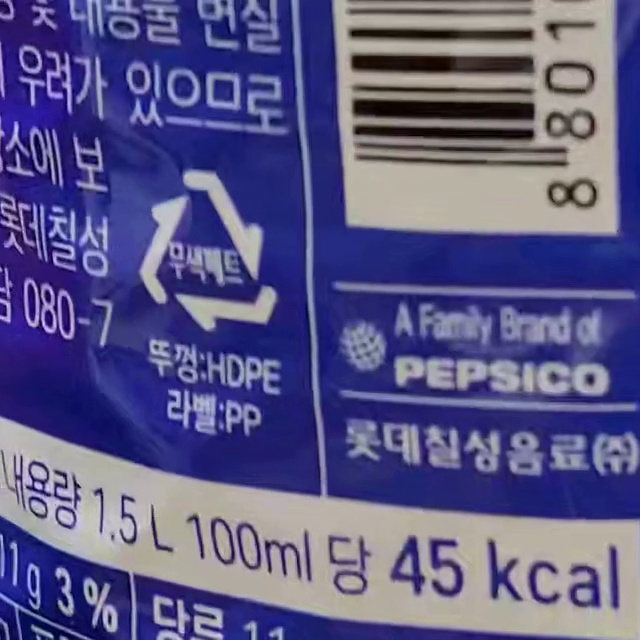ColorlessPet: (138, 167, 277, 332)
